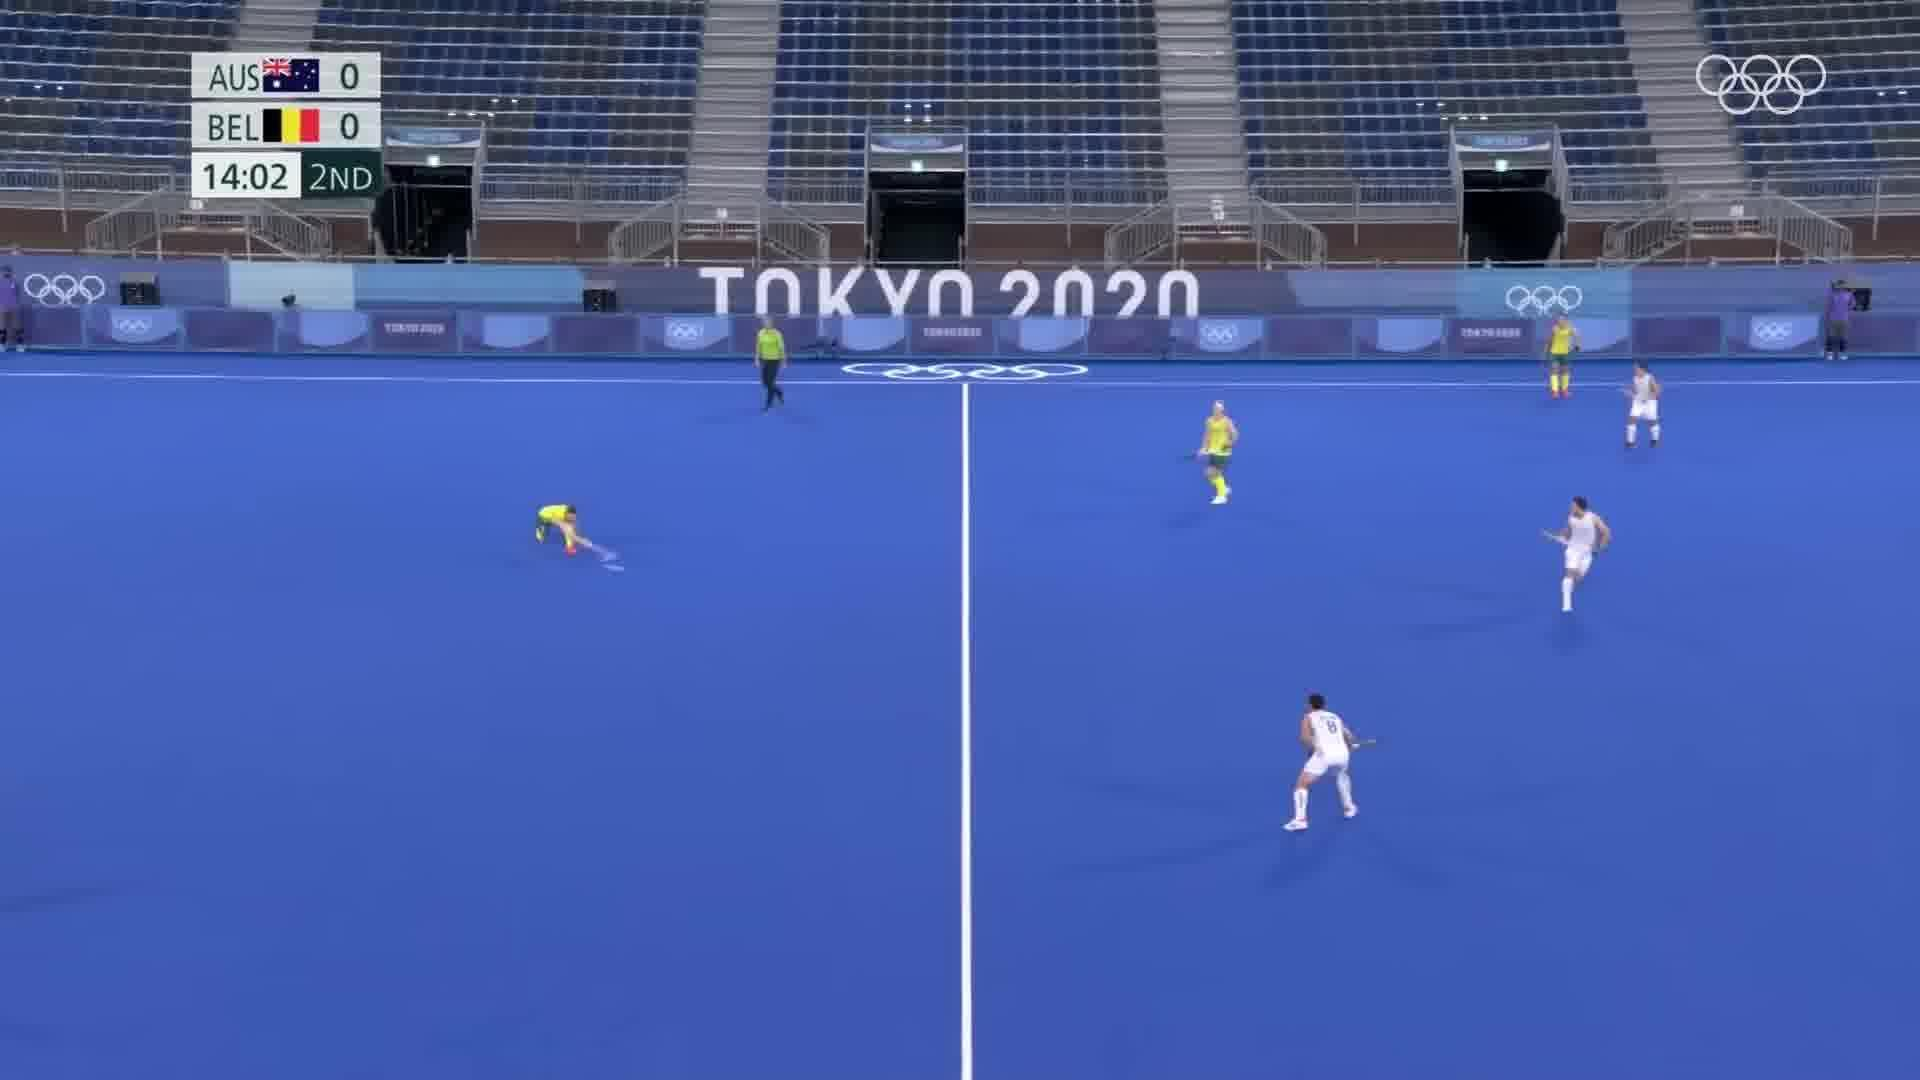ball: (597, 560, 626, 578)
